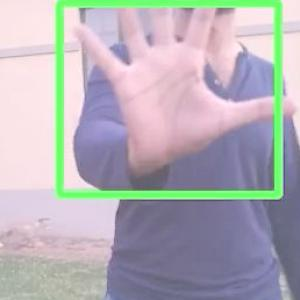follow_hand: (65, 0, 299, 171)
